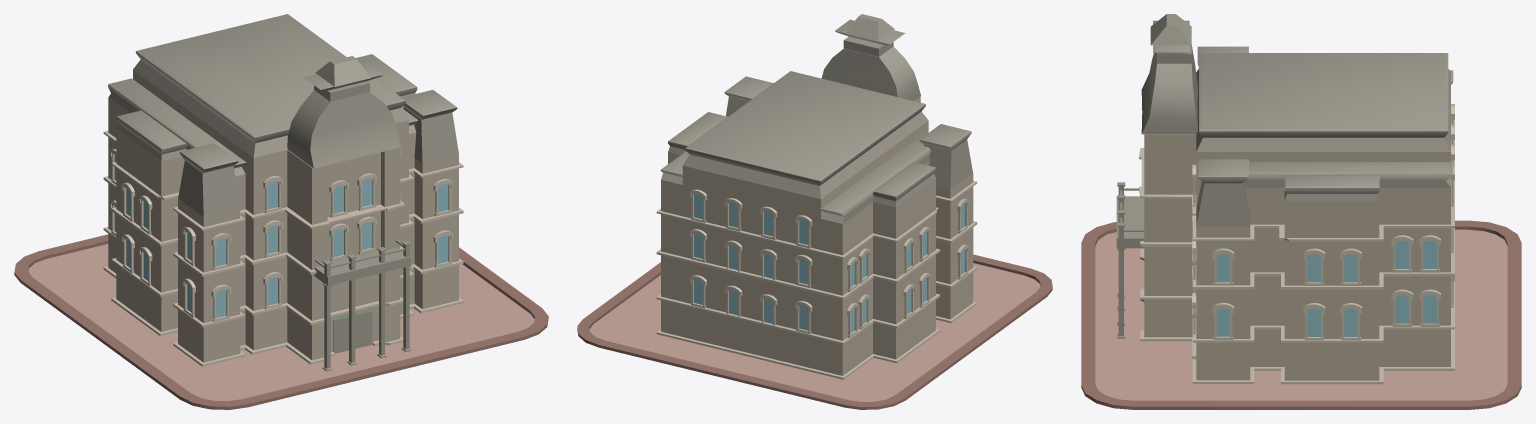
Rendered from Reitoria_Level_01.fbx.
3 views of the same model, side by side, from view 1: azimuth 30°, elevation 25°; view 2: azimuth 150°, elevation 25°; view 3: azimuth 270°, elevation 25° (orthographic). The views are drawn at different scales.
Parts seen in each view (by area): view 1: Predio_reitoria_Level_01.007; view 2: Predio_reitoria_Level_01.007; view 3: Predio_reitoria_Level_01.007.
Part boxes in pixels (x1,y1,x2,y2): Predio_reitoria_Level_01.007: (14,14,548,409); Predio_reitoria_Level_01.007: (577,14,1052,409); Predio_reitoria_Level_01.007: (1081,14,1521,409).
Bounding box in the file's own units: 2000 × 1489 × 2000.
